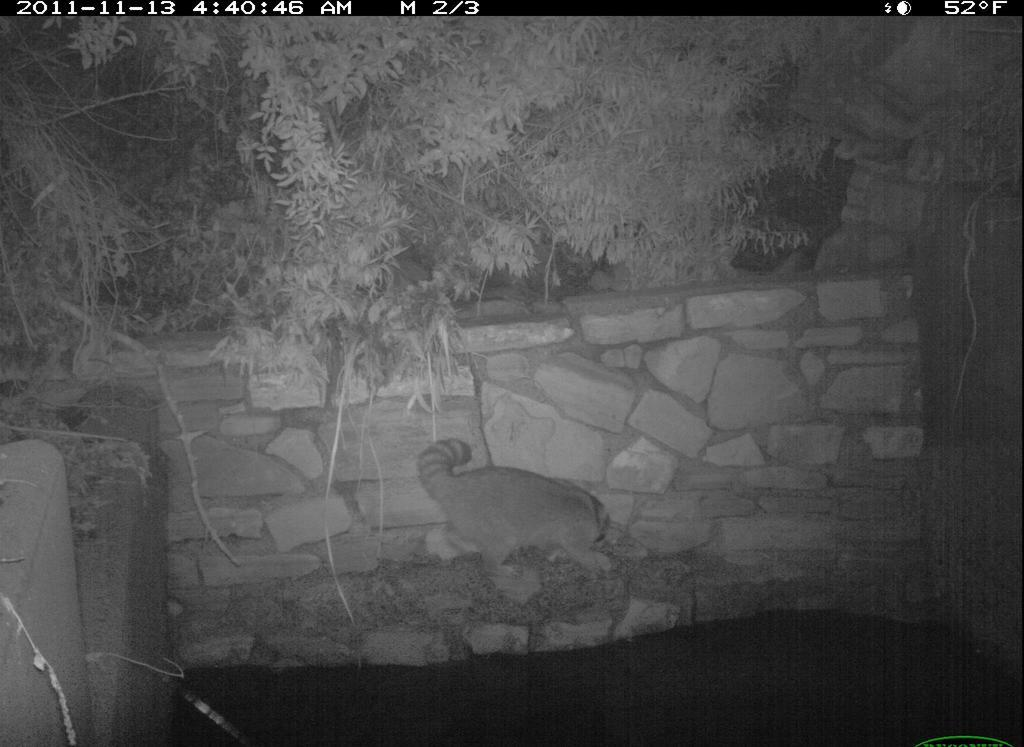raccoon: (415, 424, 634, 611)
